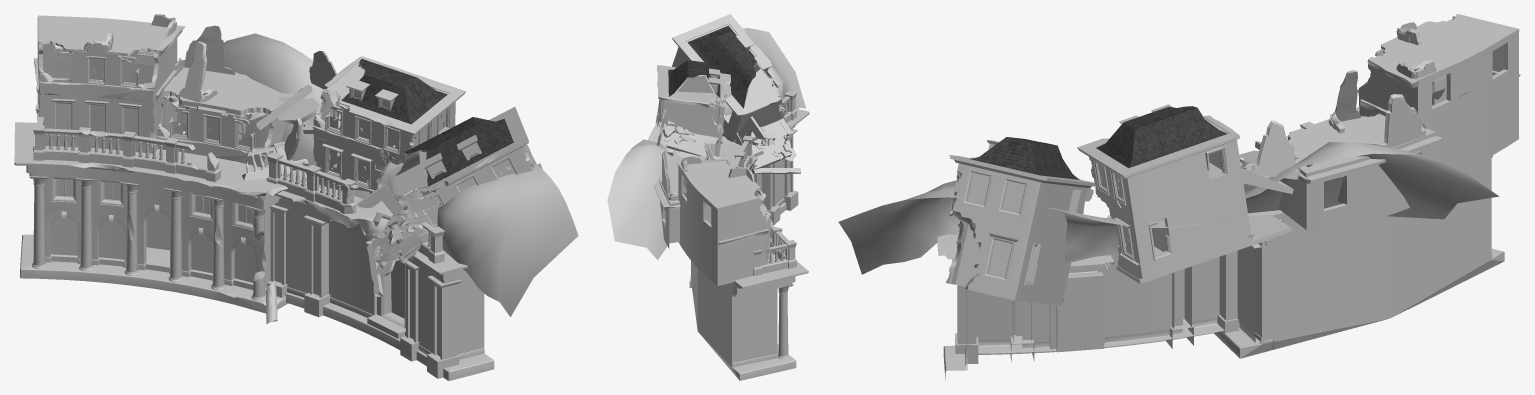
Rendered from Boss_Buildingac.fbx.
3 renders of one model, left to right at view 1: azimuth 30°, elevation 25°; view 2: azimuth 150°, elevation 25°; view 3: azimuth 270°, elevation 25°, orthographic. The views are drawn at different scales.
Visible parts, largest first — view 1: LODGroup_1_MainMesh_1_SubMesh_1, LODGroup_1_MainMesh_1_SubMesh_4, LODGroup_1_MainMesh_1_SubMesh_2, LODGroup_1_MainMesh_1_SubMesh_8, LODGroup_1_MainMesh_1_SubMesh_7, LODGroup_1_MainMesh_1_SubMesh_3, LODGroup_1_MainMesh_1_SubMesh_5, LODGroup_1_MainMesh_1_SubMesh_6; view 2: LODGroup_1_MainMesh_1_SubMesh_1, LODGroup_1_MainMesh_1_SubMesh_4, LODGroup_1_MainMesh_1_SubMesh_6, LODGroup_1_MainMesh_1_SubMesh_2, LODGroup_1_MainMesh_1_SubMesh_5, LODGroup_1_MainMesh_1_SubMesh_7, LODGroup_1_MainMesh_1_SubMesh_8; view 3: LODGroup_1_MainMesh_1_SubMesh_4, LODGroup_1_MainMesh_1_SubMesh_1, LODGroup_1_MainMesh_1_SubMesh_2, LODGroup_1_MainMesh_1_SubMesh_6, LODGroup_1_MainMesh_1_SubMesh_5, LODGroup_1_MainMesh_1_SubMesh_7, LODGroup_1_MainMesh_1_SubMesh_3.
Boxes of the visible parts, x1,y1,x2,y2 form: LODGroup_1_MainMesh_1_SubMesh_1: (33,14,578,321); LODGroup_1_MainMesh_1_SubMesh_4: (14,17,536,380); LODGroup_1_MainMesh_1_SubMesh_2: (26,51,542,359); LODGroup_1_MainMesh_1_SubMesh_8: (29,114,442,323); LODGroup_1_MainMesh_1_SubMesh_7: (267,79,477,378); LODGroup_1_MainMesh_1_SubMesh_3: (45,50,514,262); LODGroup_1_MainMesh_1_SubMesh_5: (341,58,513,186); LODGroup_1_MainMesh_1_SubMesh_6: (37,24,506,242); LODGroup_1_MainMesh_1_SubMesh_1: (607,24,805,285); LODGroup_1_MainMesh_1_SubMesh_4: (657,46,809,380); LODGroup_1_MainMesh_1_SubMesh_6: (660,99,782,274); LODGroup_1_MainMesh_1_SubMesh_2: (653,14,797,367); LODGroup_1_MainMesh_1_SubMesh_5: (668,25,771,108); LODGroup_1_MainMesh_1_SubMesh_7: (708,33,798,225); LODGroup_1_MainMesh_1_SubMesh_8: (738,98,795,358); LODGroup_1_MainMesh_1_SubMesh_4: (937,31,1518,380); LODGroup_1_MainMesh_1_SubMesh_1: (838,14,1520,301); LODGroup_1_MainMesh_1_SubMesh_2: (943,74,1465,370); LODGroup_1_MainMesh_1_SubMesh_6: (951,16,1503,286); LODGroup_1_MainMesh_1_SubMesh_5: (970,106,1227,179); LODGroup_1_MainMesh_1_SubMesh_7: (955,104,1239,363); LODGroup_1_MainMesh_1_SubMesh_3: (967,54,1446,276).
Bounding box in the file's own units: 4231 × 2595 × 6058.
